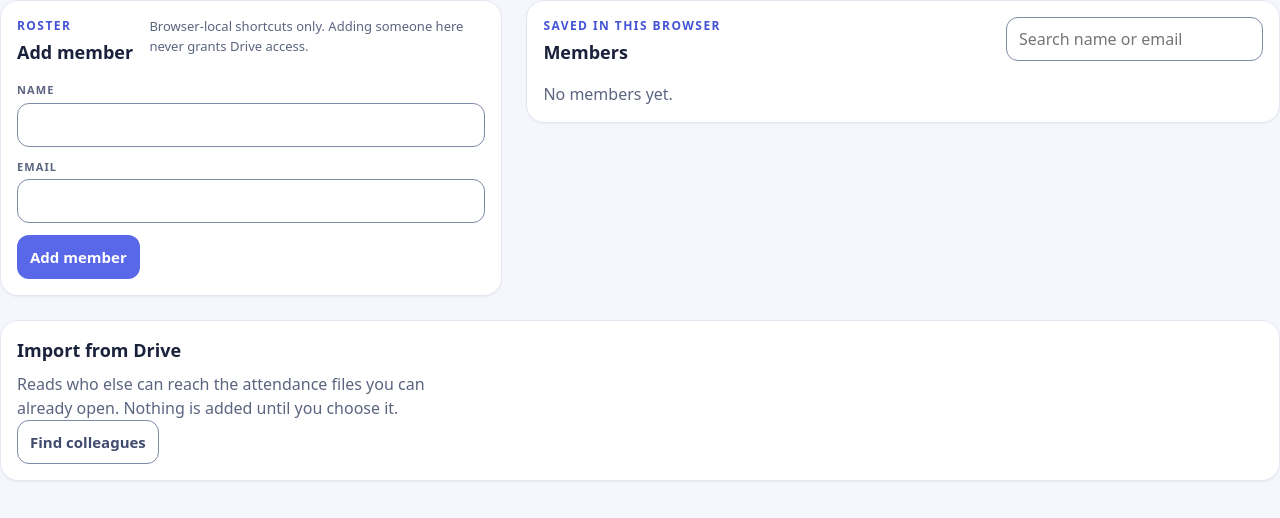
Test: MemberRoster › refuses a missing name
Check: the field labelled "Name" is shown, box [17,102,485,146]
Type "han.tg@blended-asia.com" into the field labelled "Email" at (251, 201), box [17,179,485,223]
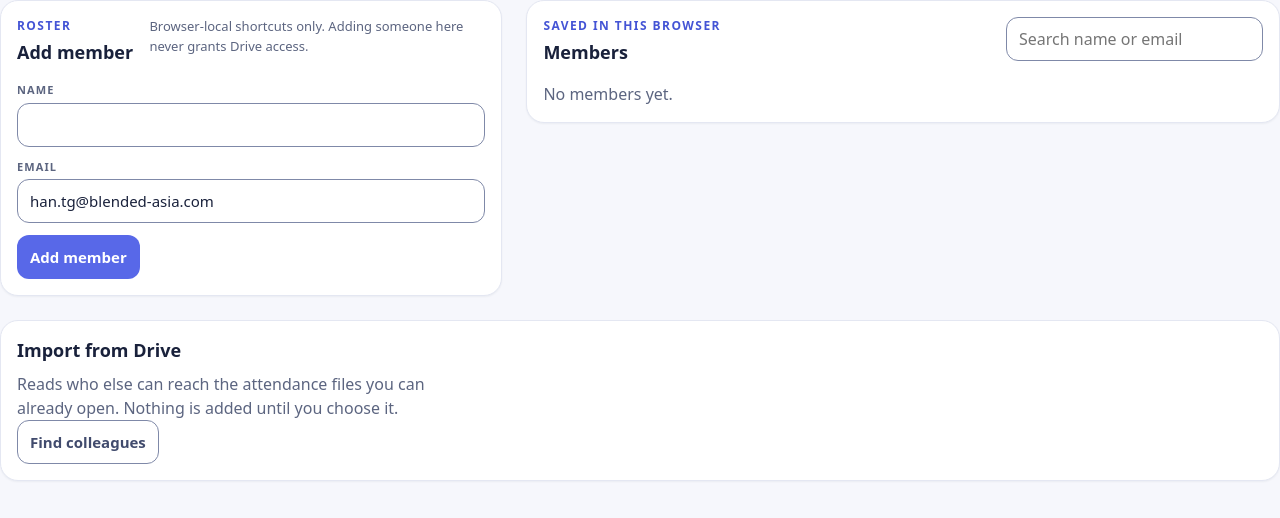
Click the button "Add member" at (78, 257), box [17,235,140,279]
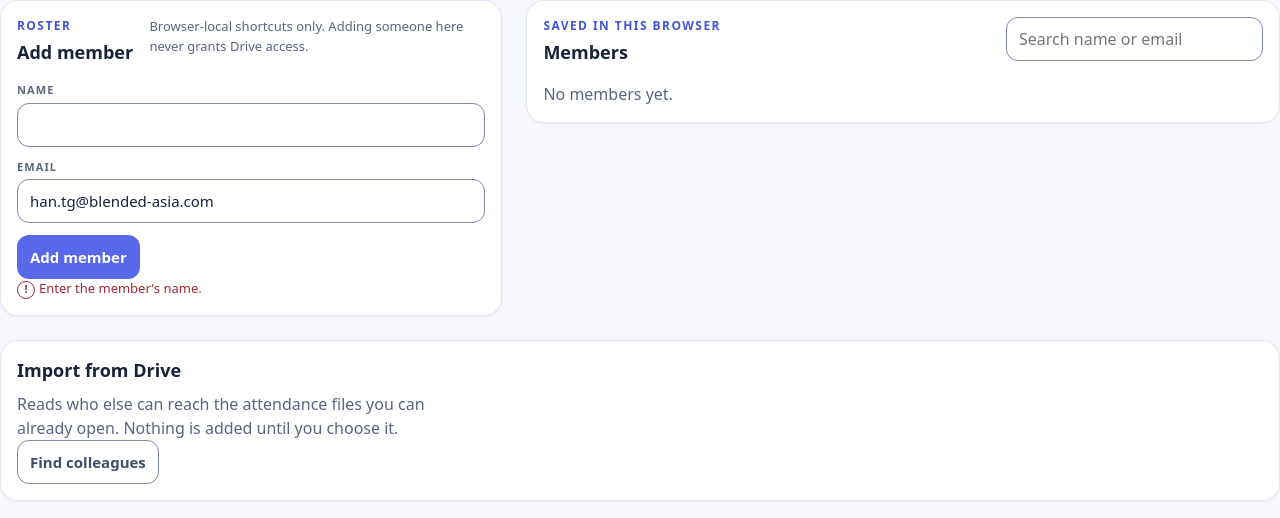
Check: the message reads "Enter the member's name.", box [39,279,202,297]
